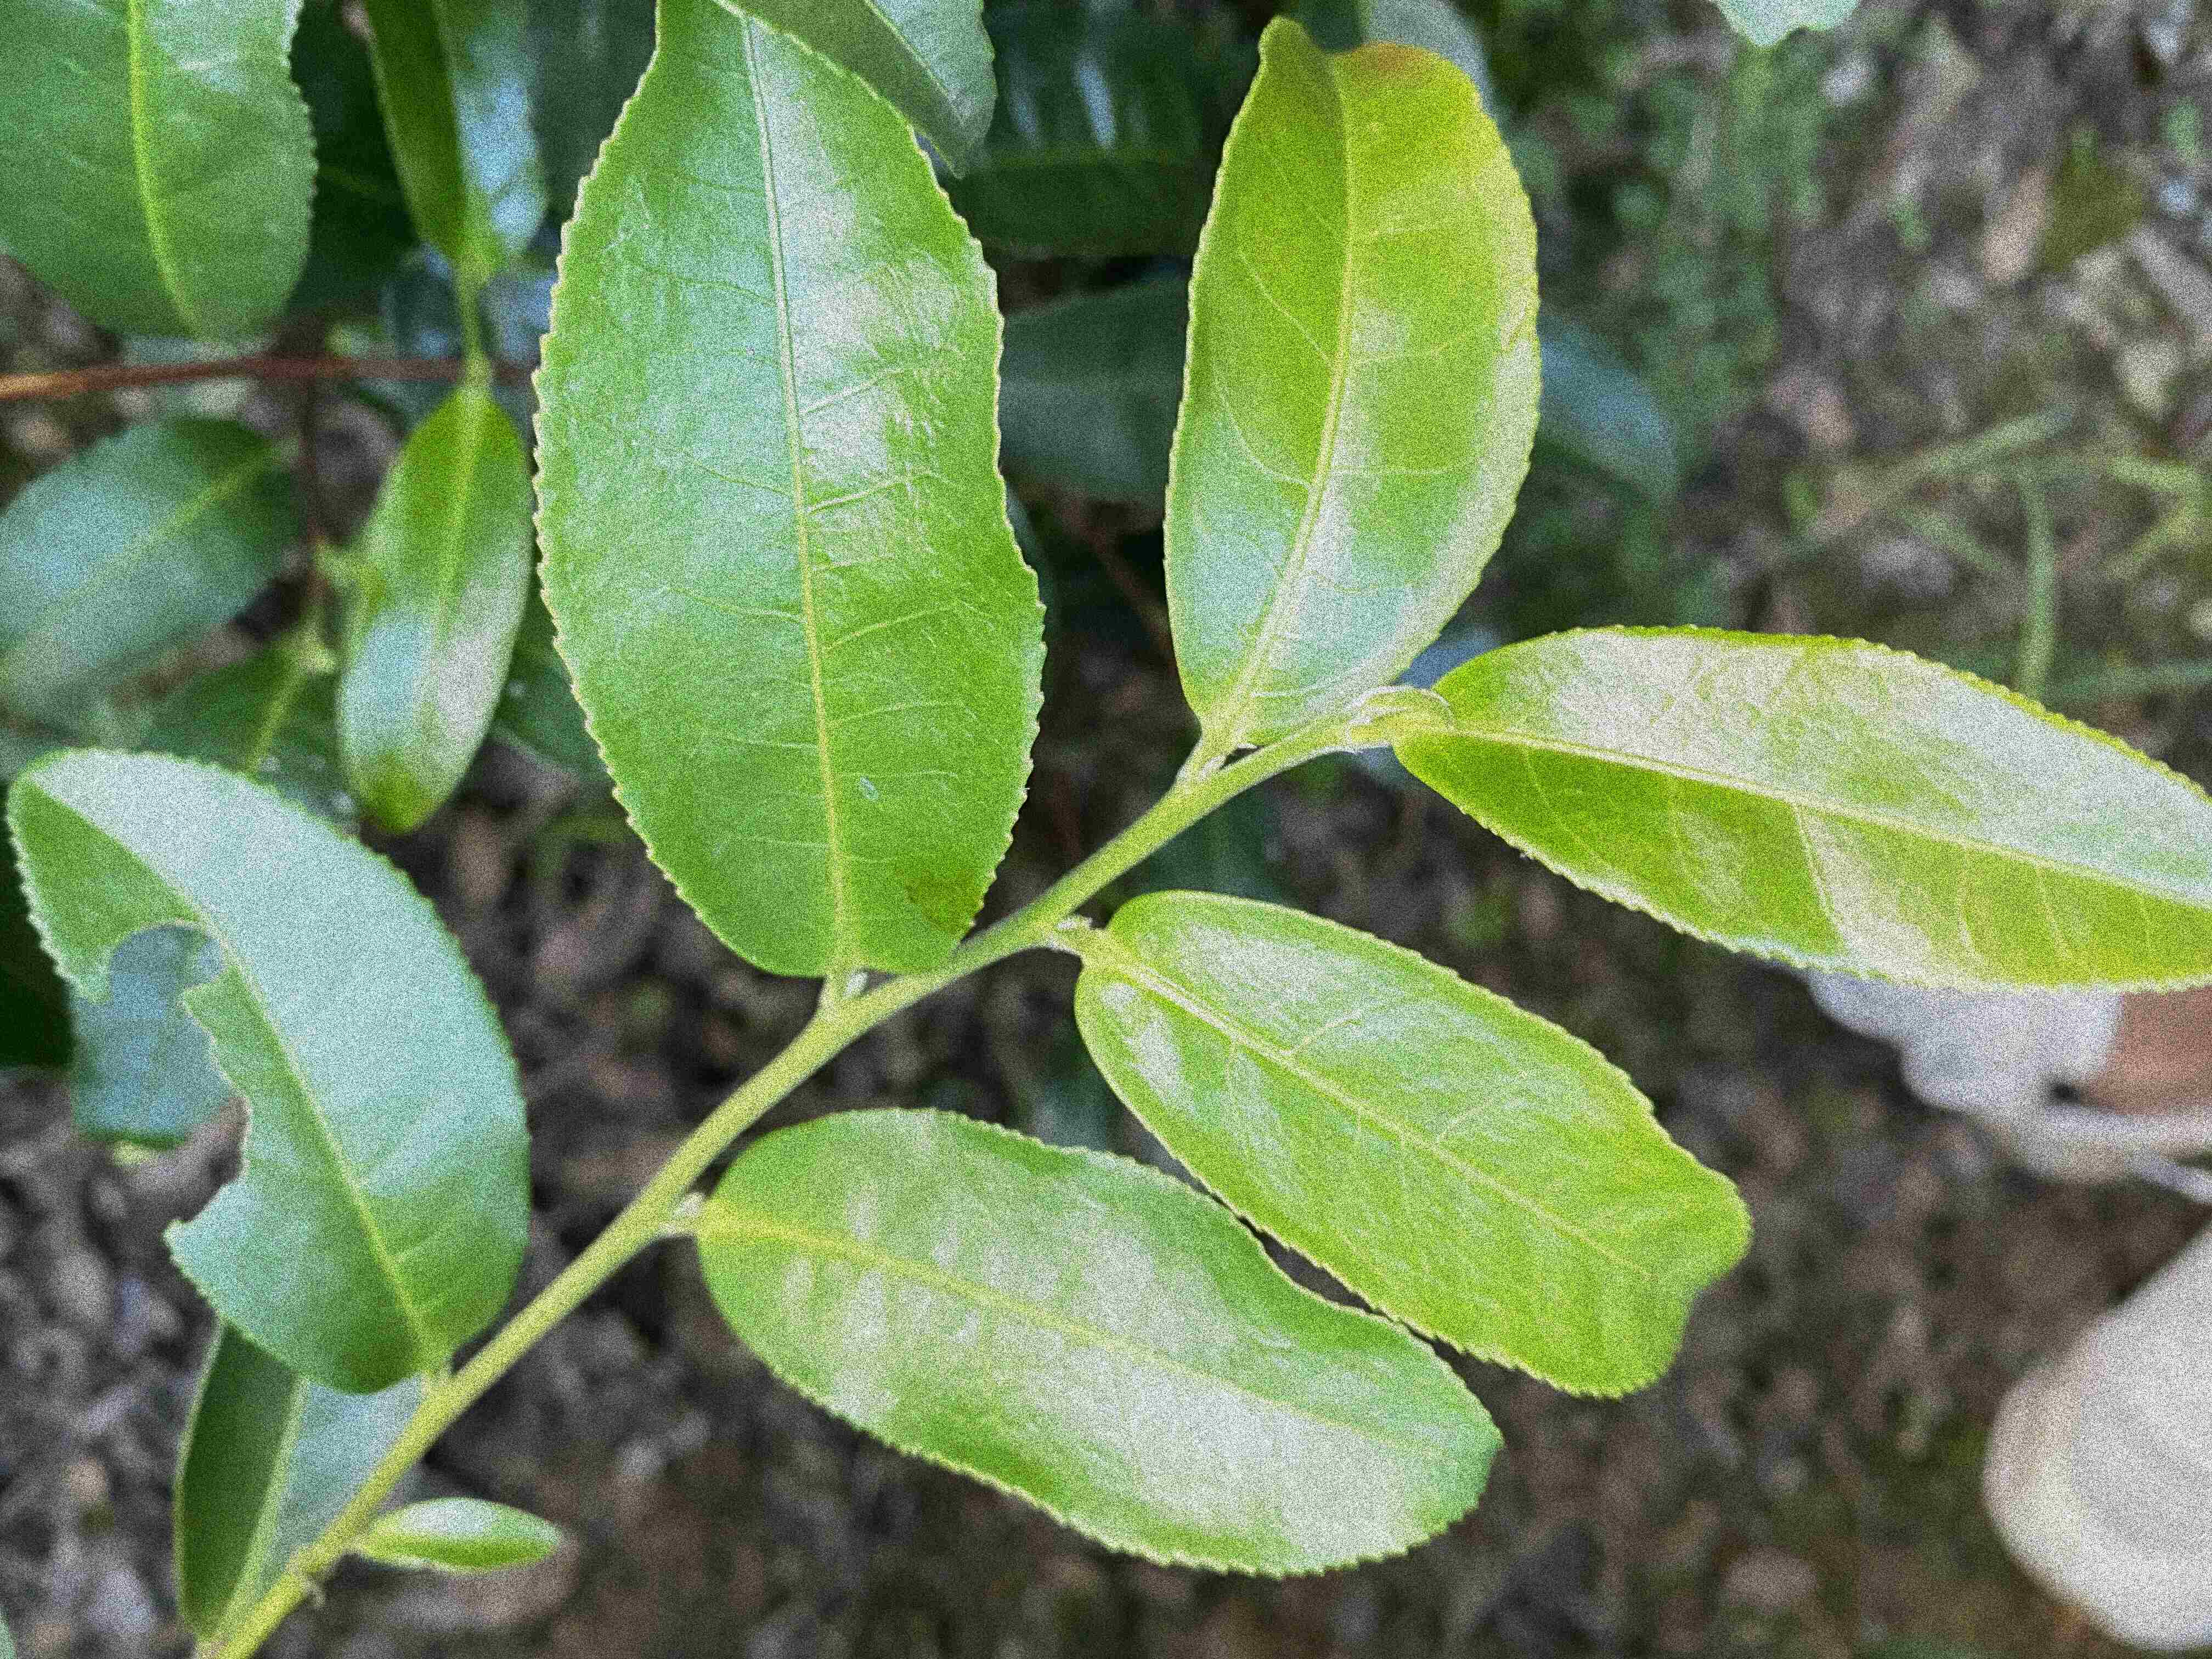chihuo_high: (9, 744, 535, 1396)
healthy: (533, 2, 1052, 981), (697, 1100, 1510, 1584), (1066, 885, 1757, 1405), (1393, 624, 2210, 999), (1158, 16, 1550, 748)
